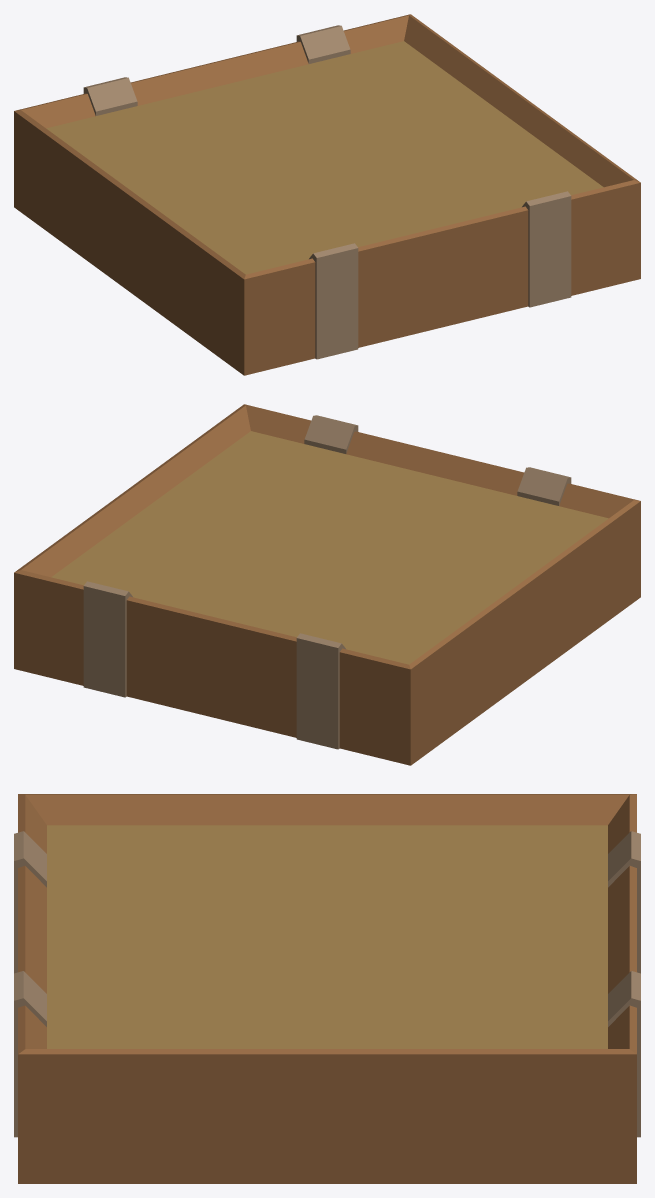
The model's file is Wooden_Garden_Box_01.fbx.
The picture shows the model from 3 angles, top to bottom: view 1: azimuth 30°, elevation 25°; view 2: azimuth 150°, elevation 25°; view 3: azimuth 270°, elevation 25°; orthographic projection. The views are drawn at different scales.
Parts seen in each view (by area): view 1: Wooden_Garden_Box_01; view 2: Wooden_Garden_Box_01; view 3: Wooden_Garden_Box_01.
Boxes of the visible parts, x1,y1,x2,y2 form: Wooden_Garden_Box_01: (14, 14, 640, 375); Wooden_Garden_Box_01: (14, 404, 640, 765); Wooden_Garden_Box_01: (14, 794, 640, 1183).
Size of the model in its own units: 63.99 by 15.95 by 65.15.
